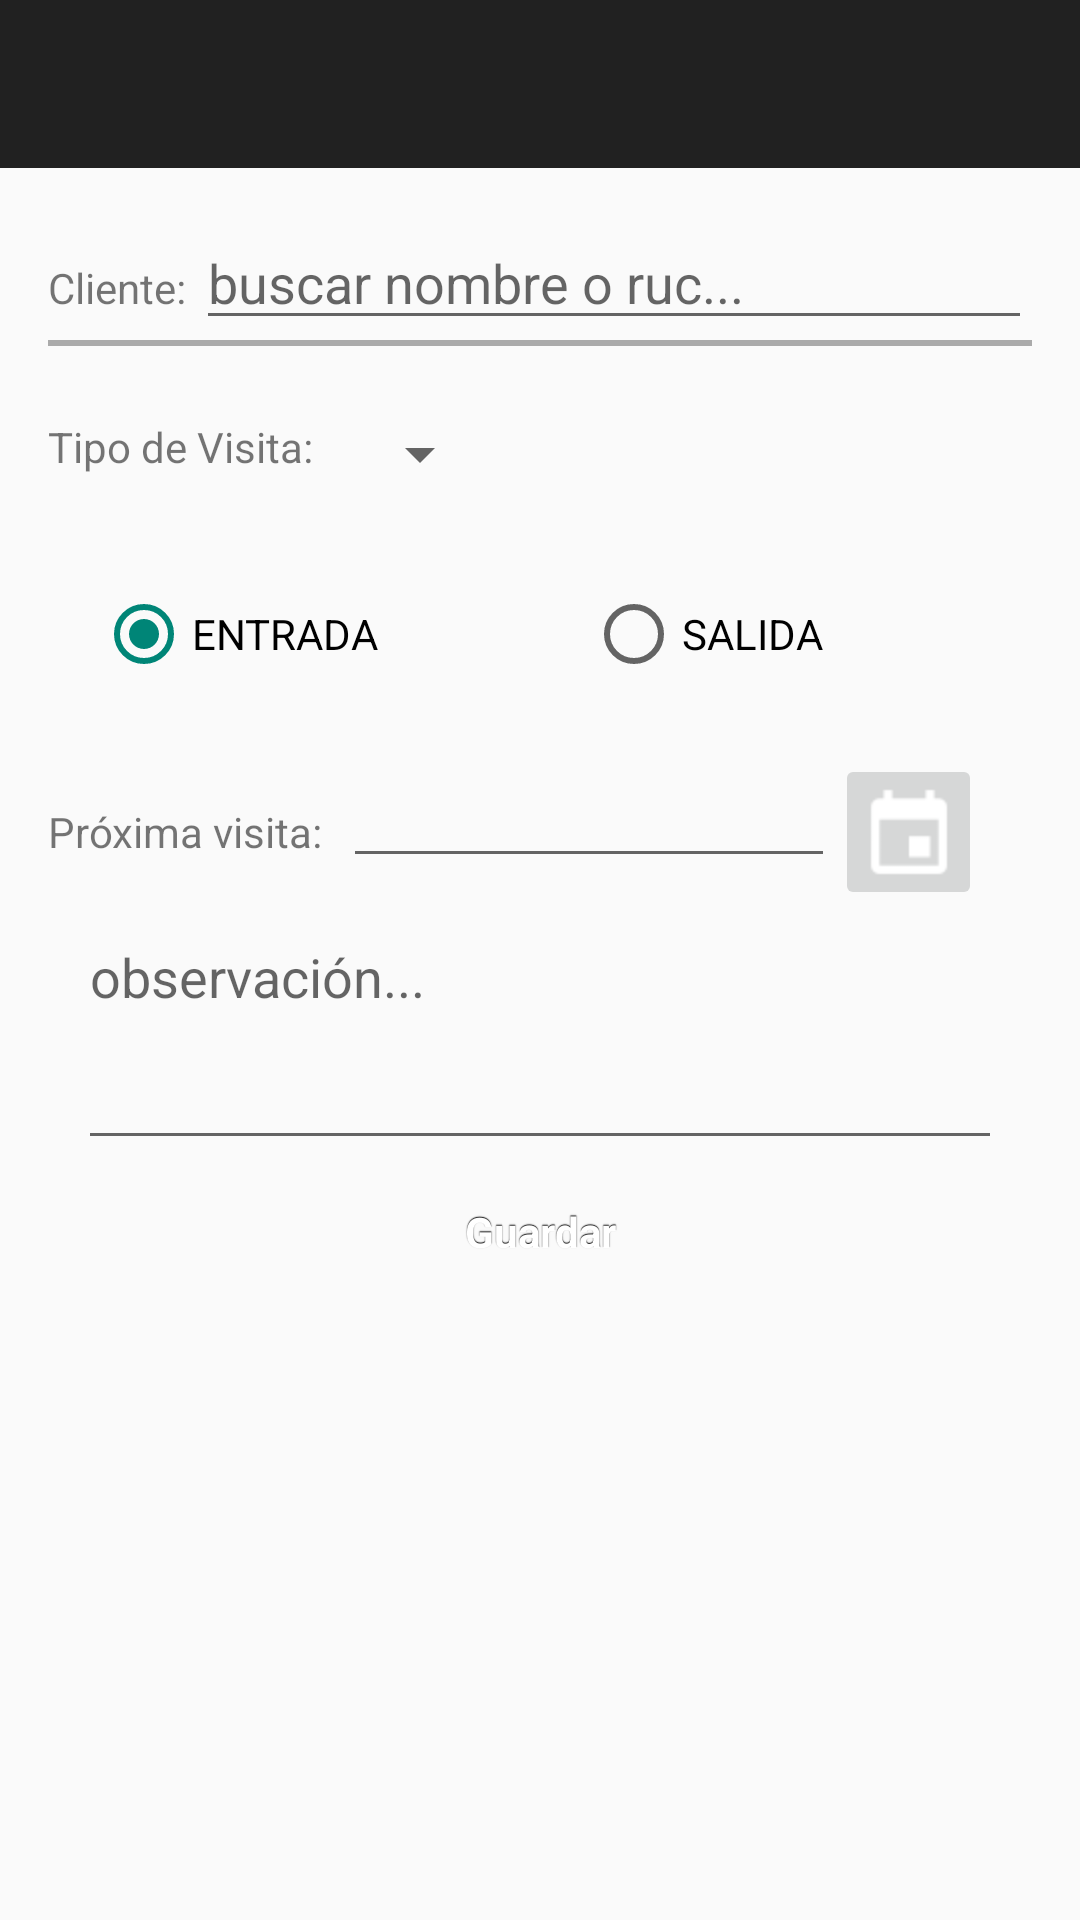

Icons on this 1080px×1920px Android screen, each with its box as bbox=(x1, y1, x2, y2):
calendar: bbox=(847, 772, 970, 892)
